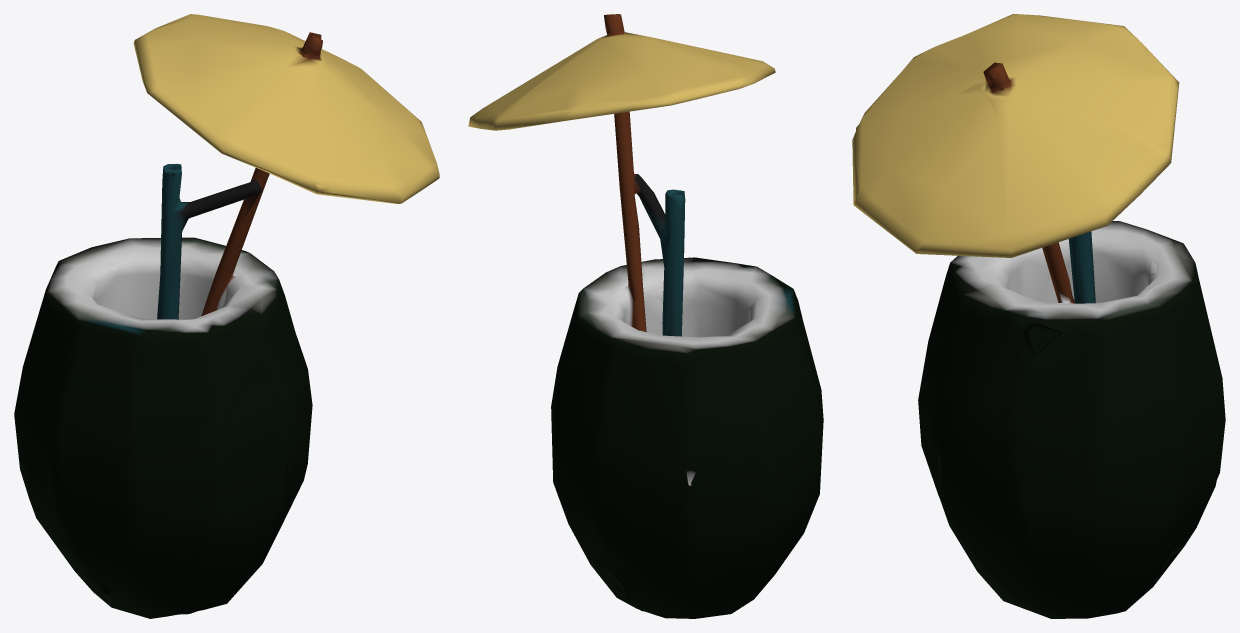
Rendered from gen3d-coconut-drink-lod0.glb.
The picture shows the model from 3 angles, left to right: view 1: azimuth 30°, elevation 25°; view 2: azimuth 150°, elevation 25°; view 3: azimuth 270°, elevation 25°; orthographic projection. The views are drawn at different scales.
Parts seen in each view (by area): view 1: part_0; view 2: part_0; view 3: part_0.
Boxes of the visible parts, left/top/right/bottom form: part_0: left=14, top=14, right=439, bottom=618; part_0: left=468, top=14, right=823, bottom=618; part_0: left=852, top=14, right=1225, bottom=618.
Size of the model in its own units: 0.6679 by 0.9999 by 0.5792.
